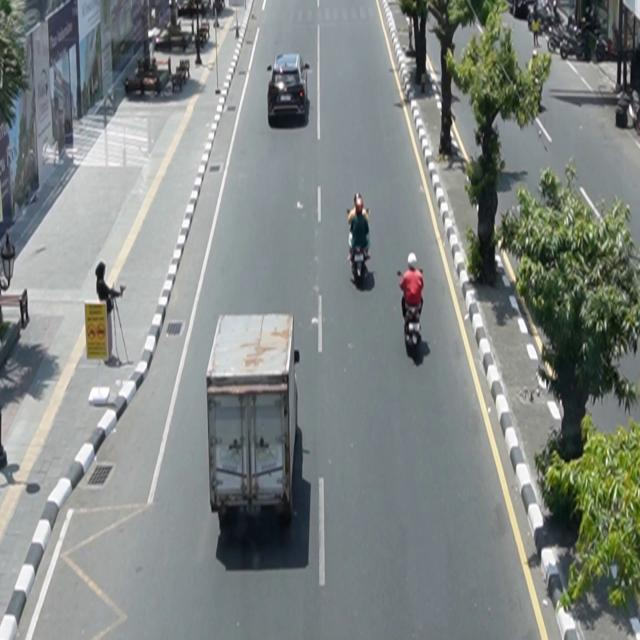car: (268, 53, 311, 121)
truck: (206, 313, 301, 526)
